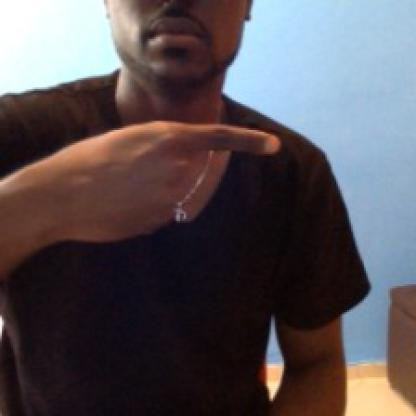TURN LEFT: (18, 101, 304, 244)
